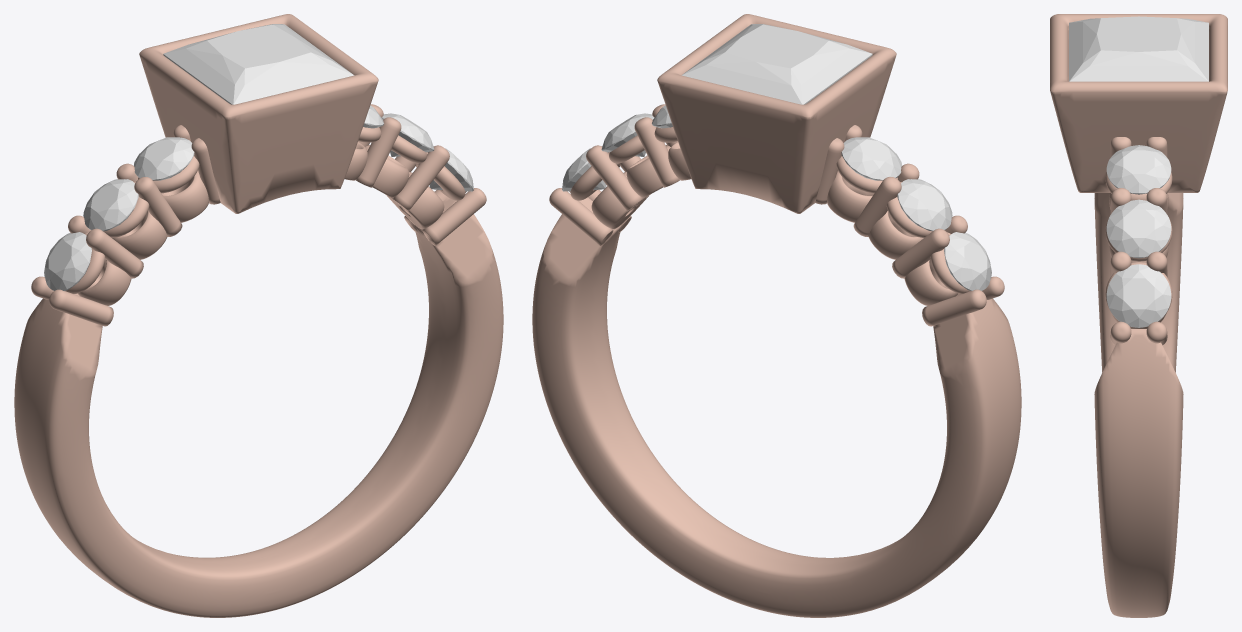
File: diamond-princess-rosegold-bezelset-straighttaperedband-7stone.glb
The picture shows the model from 3 angles, left to right: view 1: azimuth 30°, elevation 25°; view 2: azimuth 150°, elevation 25°; view 3: azimuth 270°, elevation 25°; orthographic projection.
Visible parts, largest first — view 1: metal, stone, side, side.001, side.002, side.004; view 2: metal, stone, side, side.001, side.002, side.004; view 3: metal, stone, side.005, side.004, side.003.
Part boxes in pixels (x1,y1,x2,y2): metal: [14, 14, 503, 617]; stone: [163, 24, 354, 104]; side: [44, 232, 91, 290]; side.001: [83, 179, 138, 231]; side.002: [134, 137, 194, 180]; side.004: [381, 113, 434, 156]; metal: [532, 14, 1021, 617]; stone: [681, 24, 872, 104]; side: [944, 232, 991, 290]; side.001: [897, 179, 952, 231]; side.002: [841, 137, 901, 180]; side.004: [601, 113, 654, 156]; metal: [1050, 14, 1227, 617]; stone: [1069, 16, 1208, 81]; side.005: [1106, 264, 1171, 327]; side.004: [1106, 199, 1171, 258]; side.003: [1106, 145, 1171, 194].
Bounding box in the file's own units: 20.51 × 23.86 × 6.89.
